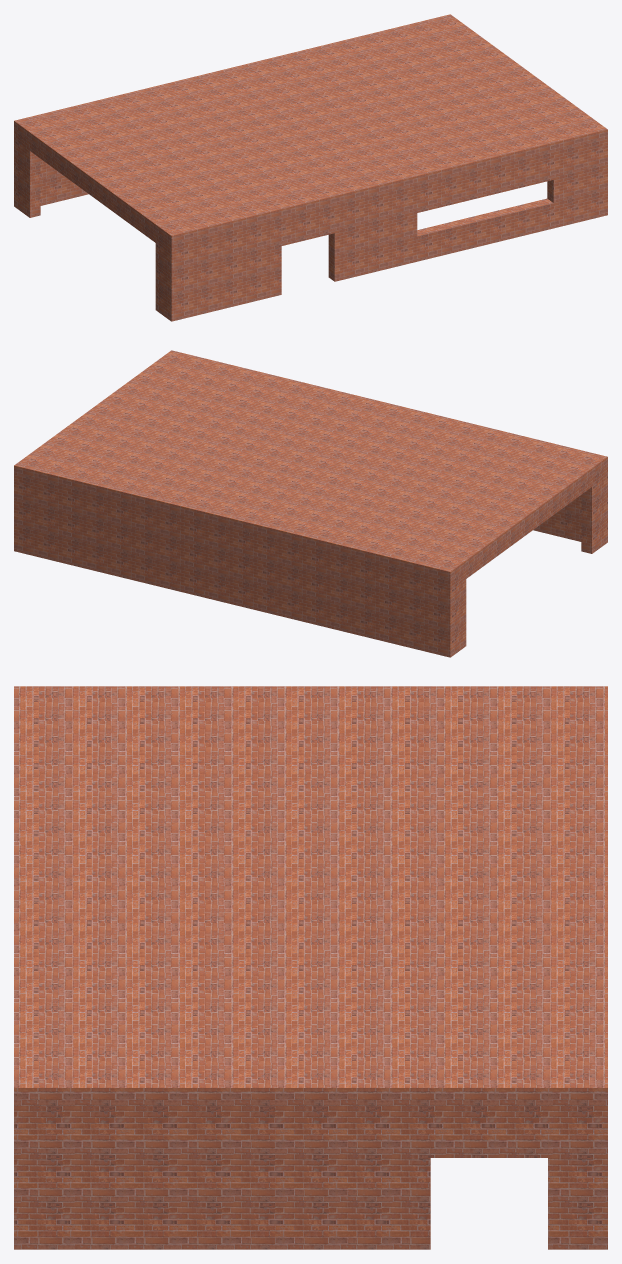
The model's file is OrangeBunker-col.GLB.
The picture shows the model from 3 angles, top to bottom: view 1: azimuth 30°, elevation 25°; view 2: azimuth 150°, elevation 25°; view 3: azimuth 270°, elevation 25°; orthographic projection. The views are drawn at different scales.
Visible parts, largest first — view 1: OrangeBunker-col; view 2: OrangeBunker-col; view 3: OrangeBunker-col.
Boxes of the visible parts, x1,y1,x2,y2 form: OrangeBunker-col: [14, 14, 607, 321]; OrangeBunker-col: [14, 350, 607, 657]; OrangeBunker-col: [14, 686, 607, 1249].
Size of the model in its own units: 16 by 3 by 10.
1 material, 1 textured.
